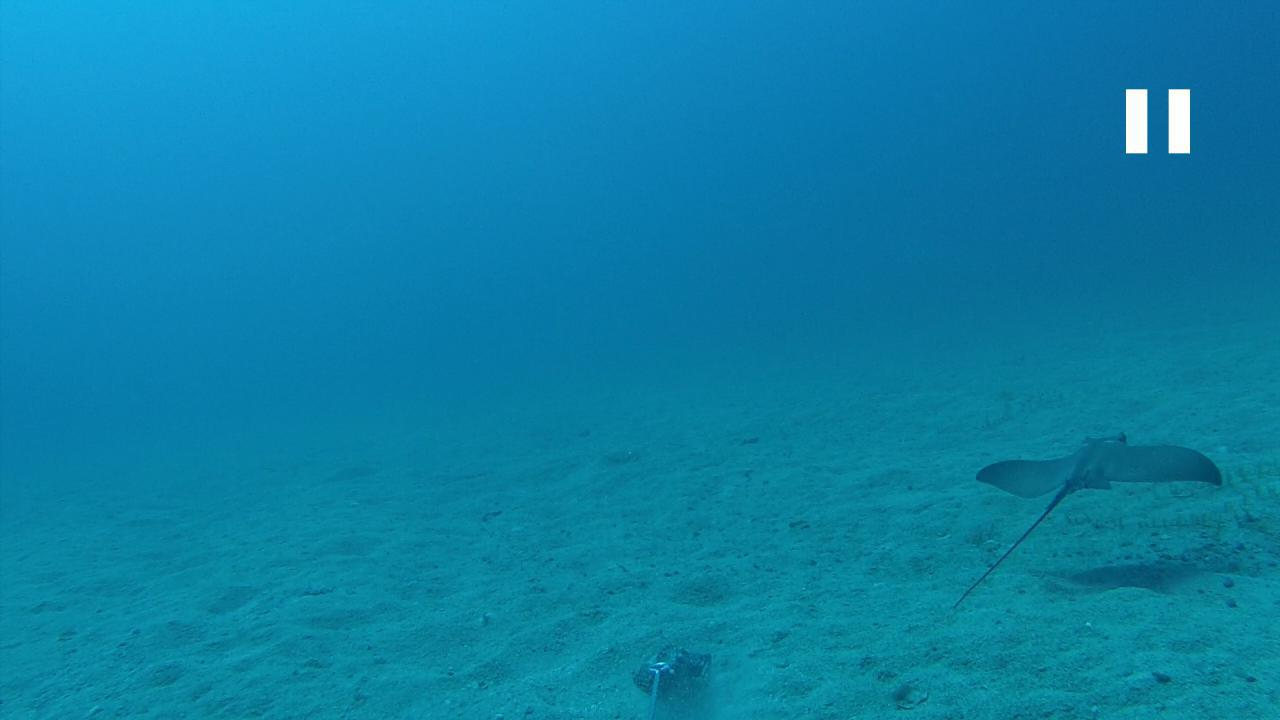dasyatis: (950, 432, 1224, 606)
